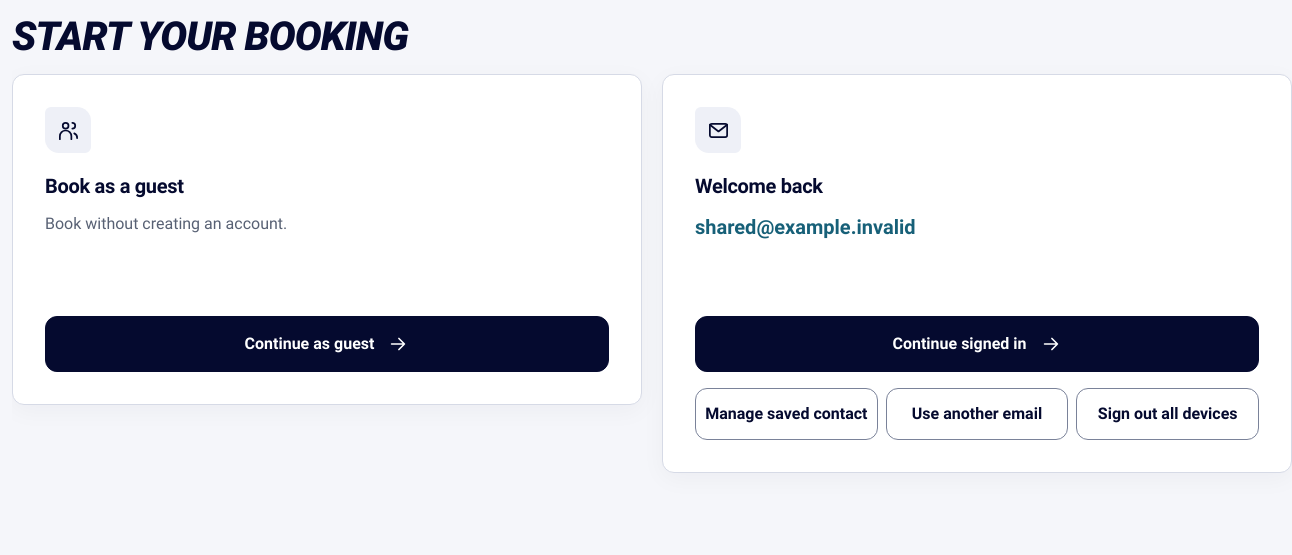
Test: signed-in customer manages saved contact on Account without entering unavailable booking steps
Click the button "Manage saved contact" at (786, 414), box [695,388,878,440]
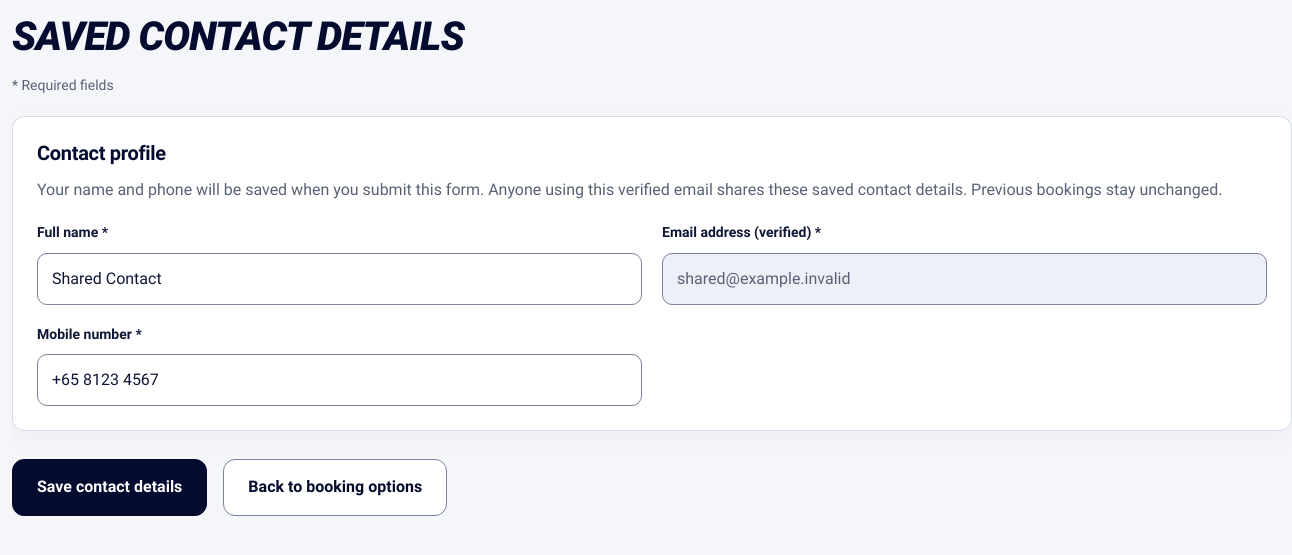
Expected: the heading "Saved contact details" is shown, [12,13,464,60]
Expected: the field labelled "Full name *" holds "Shared Contact"
Replace the text in the field labelled "Full name *" with "Updated Contact" at (340, 279), box [37,253,642,305]
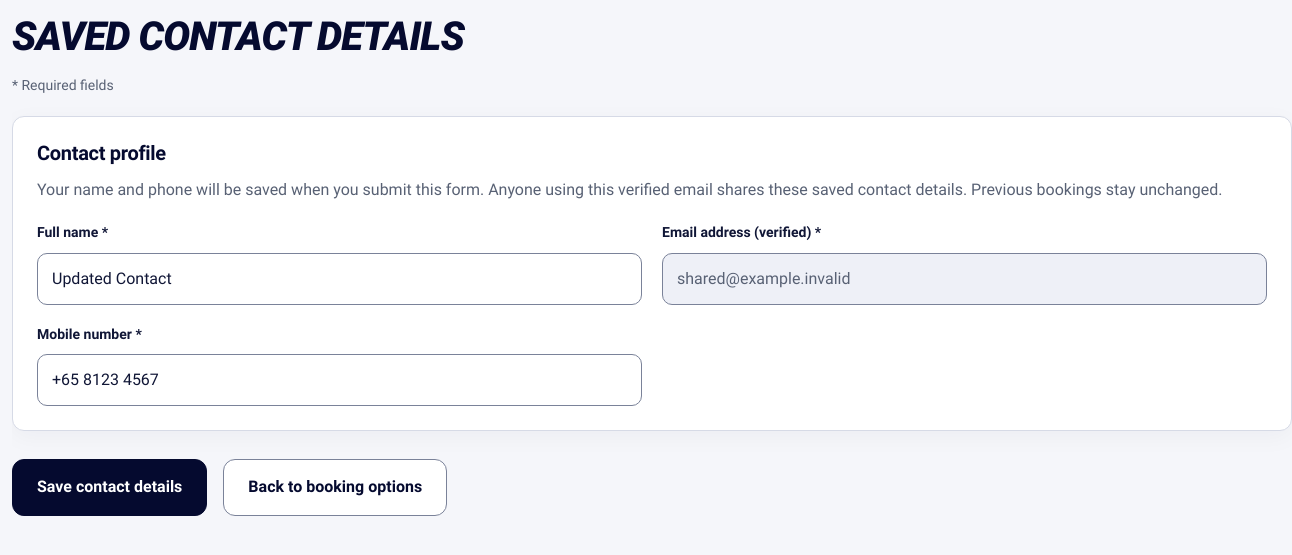
Click the button "Save contact details" at (110, 487), box [12,459,207,516]
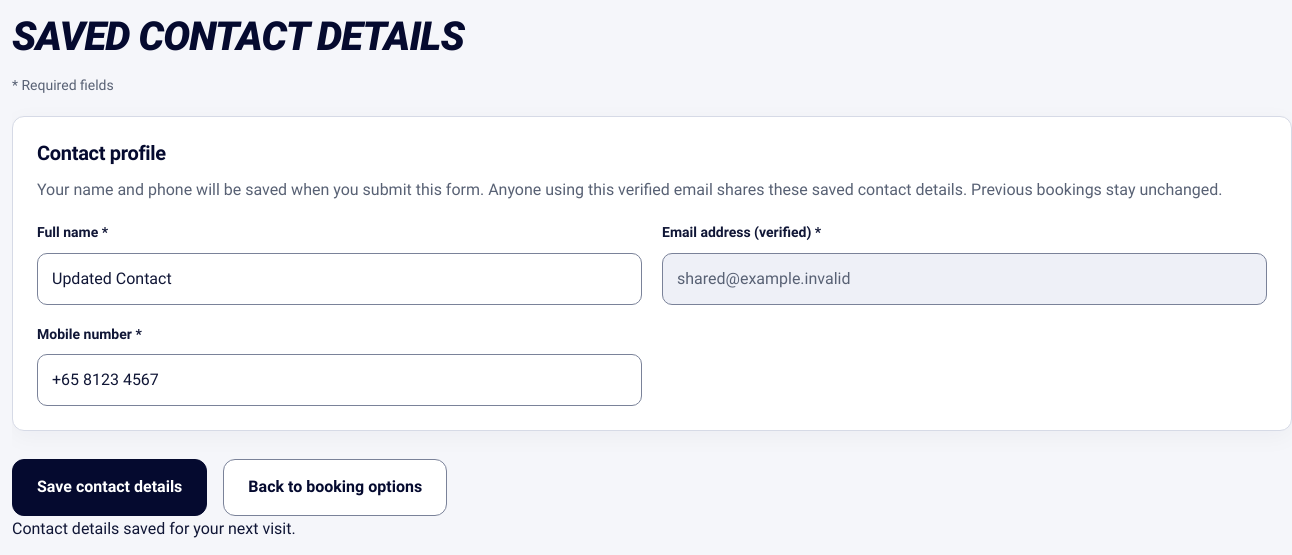
Expected: the message shows "Contact details saved", [12,519,296,538]
Click the button "Back to booking options" at (335, 487), box [223,459,447,516]
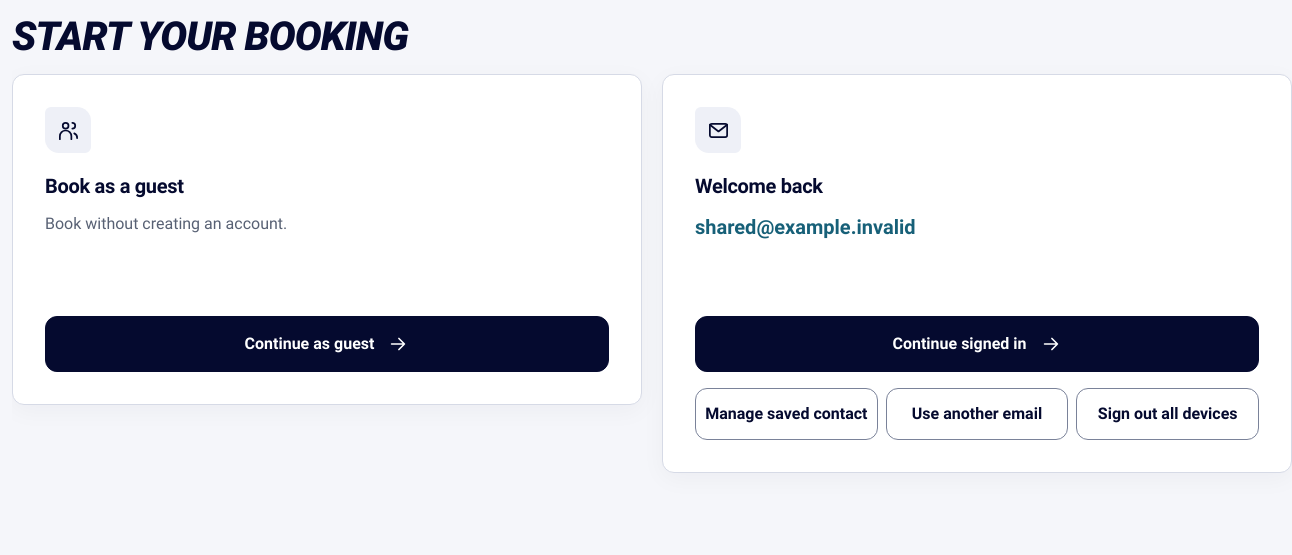
Expected: the heading "Start your booking" is shown, [12,13,408,60]
